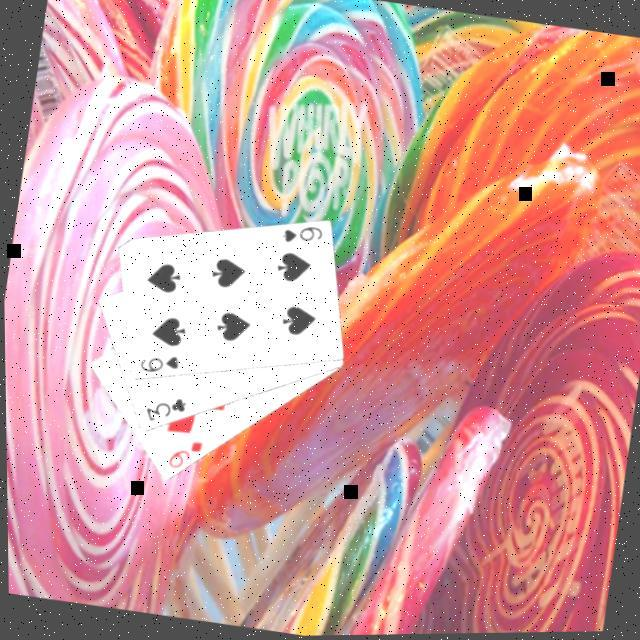3C: (137, 388, 188, 428)
6S: (132, 346, 182, 380), (274, 217, 324, 251)
9D: (160, 432, 203, 474)
